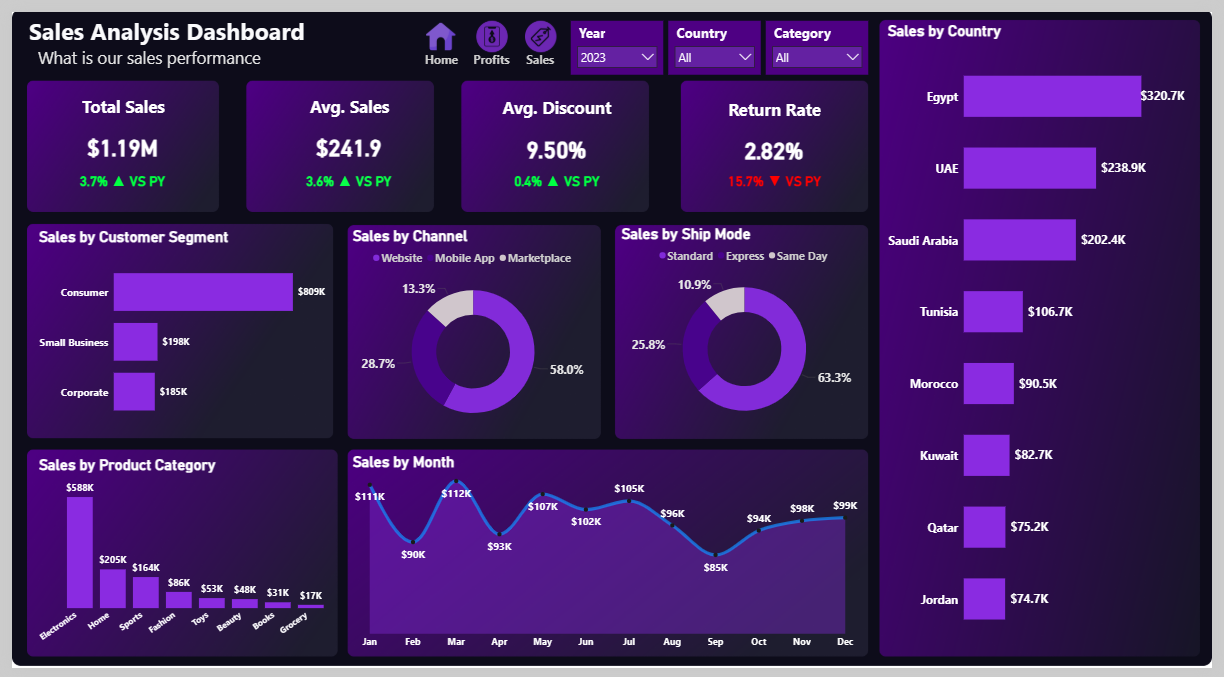

The dashboard page shown, as its layout file describes it:
{"tool":"powerbi","page":{"name":"Sales Dashboard","canvas":[1920,1050],"ordinal":1},"visuals":[{"type":"textbox","box":[21.7,0,536.7,103.3],"z":0},{"type":"card","fields":{"Values":["AllMeasures.TotalSales"]},"box":[22,104,310,222],"z":1000},{"type":"textbox","box":[96,128,164,50],"z":2000},{"type":"card","fields":{"Values":["AllMeasures.AvgSale"]},"box":[384,104,310,222],"z":3000},{"type":"textbox","box":[446,128,188,50],"z":4000},{"type":"card","fields":{"Values":["AllMeasures.AvgDiscount"]},"box":[716,106,310,222],"z":5000},{"type":"textbox","box":[774,130,196,50],"z":6000},{"type":"card","fields":{"Values":["AllMeasures.ReturnRate"]},"box":[1064,108,310,222],"z":7000},{"type":"textbox","box":[1122,132,196,50],"z":8000},{"type":"donutChart","title":"Sales by Channel","fields":{"Category":["Dim_Channel.Channel"],"Y":["AllMeasures.TotalSales"]},"box":[540,344,396,338],"z":9000},{"type":"donutChart","title":"Sales by Ship Mode","fields":{"Category":["Dim_ShipMode.ShipMode"],"Y":["AllMeasures.TotalSales"]},"box":[970,340,404,338],"z":10000},{"type":"lineChart","title":"Sales by Month","fields":{"Category":["Dim_Date.Month Name"],"Y":["AllMeasures.TotalSales"]},"box":[540,706,826,322],"z":11000},{"type":"clusteredColumnChart","title":"Sales by Year","fields":{"Category":["Dim_Date.Year"],"Y":["AllMeasures.TotalSales"]},"box":[38,346,470,332],"z":12000},{"type":"clusteredColumnChart","title":"Sales by Product Category","fields":{"Category":["Dim_Product.Category"],"Y":["AllMeasures.TotalSales"]},"box":[38,710,488,316],"z":13000},{"type":"slicer","fields":{"Values":["Dim_Customer.Country"]},"box":[1050,14,148,86],"z":14000},{"type":"slicer","fields":{"Values":["Dim_Product.Category"]},"box":[1206,14,164,86],"z":15000},{"type":"slicer","fields":{"Values":["Dim_Date.Year"]},"box":[894,14,148,86],"z":16000},{"type":"clusteredBarChart","title":"Sales by Country","fields":{"Category":["Dim_Customer.Country"],"Y":["AllMeasures.TotalSales"]},"box":[1395.1,16.2,485.4,1010.3],"z":17000},{"type":"image","box":[636.8,14.3,100,50],"z":18000,"group":"g3"},{"type":"group","id":"g1","title":"Group 2","box":[793.2,14.3,102,102],"z":19000},{"type":"group","id":"g2","title":"Group 3","box":[716.4,14.3,102,102],"z":20000},{"type":"image","box":[718.4,14.3,100,50],"z":20000,"group":"g2"},{"type":"group","id":"g3","title":"Group 4","box":[636.8,14.3,102,102],"z":21000},{"type":"image","box":[795.2,14.3,100,50],"z":21000,"group":"g1"},{"type":"textbox","box":[636.8,58.3,102,58],"z":22000,"group":"g3"},{"type":"card","fields":{"Values":["AllMeasures.T.SalesYOYpct"]},"box":[58,238,238,66],"z":22000},{"type":"textbox","box":[716.4,58.3,102,58],"z":23000,"group":"g2"},{"type":"card","fields":{"Values":["AllMeasures.AvgSalesYOYpct"]},"box":[416,238,246,66],"z":23000},{"type":"textbox","box":[793.2,58.3,102,58],"z":24000,"group":"g1"},{"type":"card","fields":{"Values":["AllMeasures.AvgDiscountYOYpct"]},"box":[746,238,252,66],"z":24000},{"type":"card","fields":{"Values":["AllMeasures.RetuenRateYOYpct"]},"box":[1094,238,252,66],"z":25000}]}

Visuals, with their boxes in screenshot pixels (x1, y1, x2, y2), scaled from the page's 1920x1050 canvas onto the 1224x677 screenshot:
textbox: {"left": 14, "top": 0, "right": 356, "bottom": 67}
card - AllMeasures.TotalSales: {"left": 14, "top": 67, "right": 212, "bottom": 210}
textbox: {"left": 61, "top": 83, "right": 166, "bottom": 115}
card - AllMeasures.AvgSale: {"left": 245, "top": 67, "right": 442, "bottom": 210}
textbox: {"left": 284, "top": 83, "right": 404, "bottom": 115}
card - AllMeasures.AvgDiscount: {"left": 456, "top": 68, "right": 654, "bottom": 211}
textbox: {"left": 493, "top": 84, "right": 618, "bottom": 116}
card - AllMeasures.ReturnRate: {"left": 678, "top": 70, "right": 876, "bottom": 213}
textbox: {"left": 715, "top": 85, "right": 840, "bottom": 117}
"Sales by Channel" donutChart: {"left": 344, "top": 222, "right": 597, "bottom": 440}
"Sales by Ship Mode" donutChart: {"left": 618, "top": 219, "right": 876, "bottom": 437}
"Sales by Month" lineChart: {"left": 344, "top": 455, "right": 871, "bottom": 663}
"Sales by Year" clusteredColumnChart: {"left": 24, "top": 223, "right": 324, "bottom": 437}
"Sales by Product Category" clusteredColumnChart: {"left": 24, "top": 458, "right": 335, "bottom": 662}
slicer - Dim_Customer.Country: {"left": 669, "top": 9, "right": 764, "bottom": 64}
slicer - Dim_Product.Category: {"left": 769, "top": 9, "right": 873, "bottom": 64}
slicer - Dim_Date.Year: {"left": 570, "top": 9, "right": 664, "bottom": 64}
"Sales by Country" clusteredBarChart: {"left": 889, "top": 10, "right": 1199, "bottom": 662}
image: {"left": 406, "top": 9, "right": 470, "bottom": 41}
"Group 2" group: {"left": 506, "top": 9, "right": 571, "bottom": 75}
"Group 3" group: {"left": 457, "top": 9, "right": 522, "bottom": 75}
image: {"left": 458, "top": 9, "right": 522, "bottom": 41}
"Group 4" group: {"left": 406, "top": 9, "right": 471, "bottom": 75}
image: {"left": 507, "top": 9, "right": 571, "bottom": 41}
textbox: {"left": 406, "top": 38, "right": 471, "bottom": 75}
card - AllMeasures.T.SalesYOYpct: {"left": 37, "top": 153, "right": 189, "bottom": 196}
textbox: {"left": 457, "top": 38, "right": 522, "bottom": 75}
card - AllMeasures.AvgSalesYOYpct: {"left": 265, "top": 153, "right": 422, "bottom": 196}
textbox: {"left": 506, "top": 38, "right": 571, "bottom": 75}
card - AllMeasures.AvgDiscountYOYpct: {"left": 476, "top": 153, "right": 636, "bottom": 196}
card - AllMeasures.RetuenRateYOYpct: {"left": 697, "top": 153, "right": 858, "bottom": 196}
